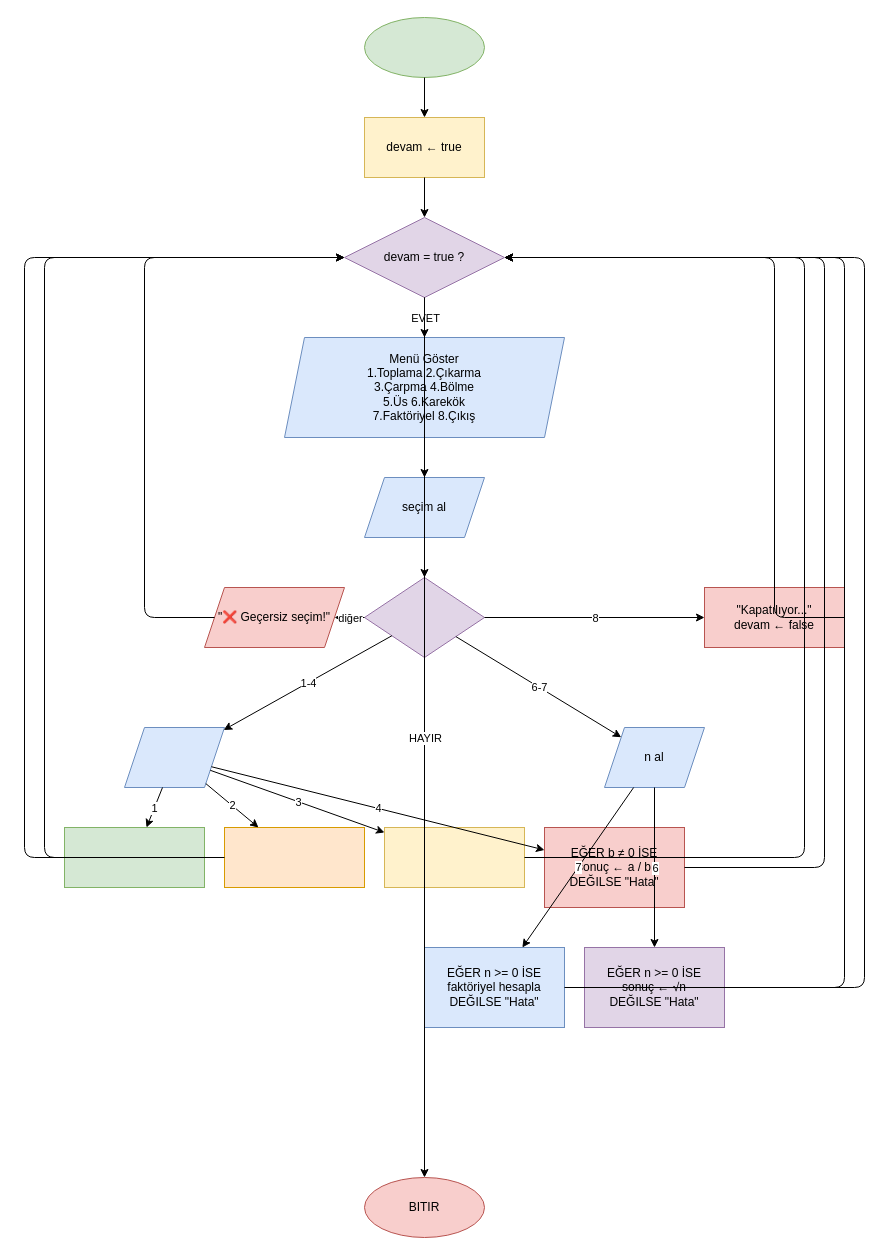
This 890x1255 diagram has some shape labels left out. Each missing label, with the centre of its shape:
a, b al: point (174, 757)
BAŞLA: point (424, 47)
seçim ?: point (424, 617)
sonuç ← a * b "a × b = sonuç": point (454, 857)
sonuç ← a + b "a + b = sonuç": point (134, 857)
sonuç ← a - b "a - b = sonuç": point (294, 857)
